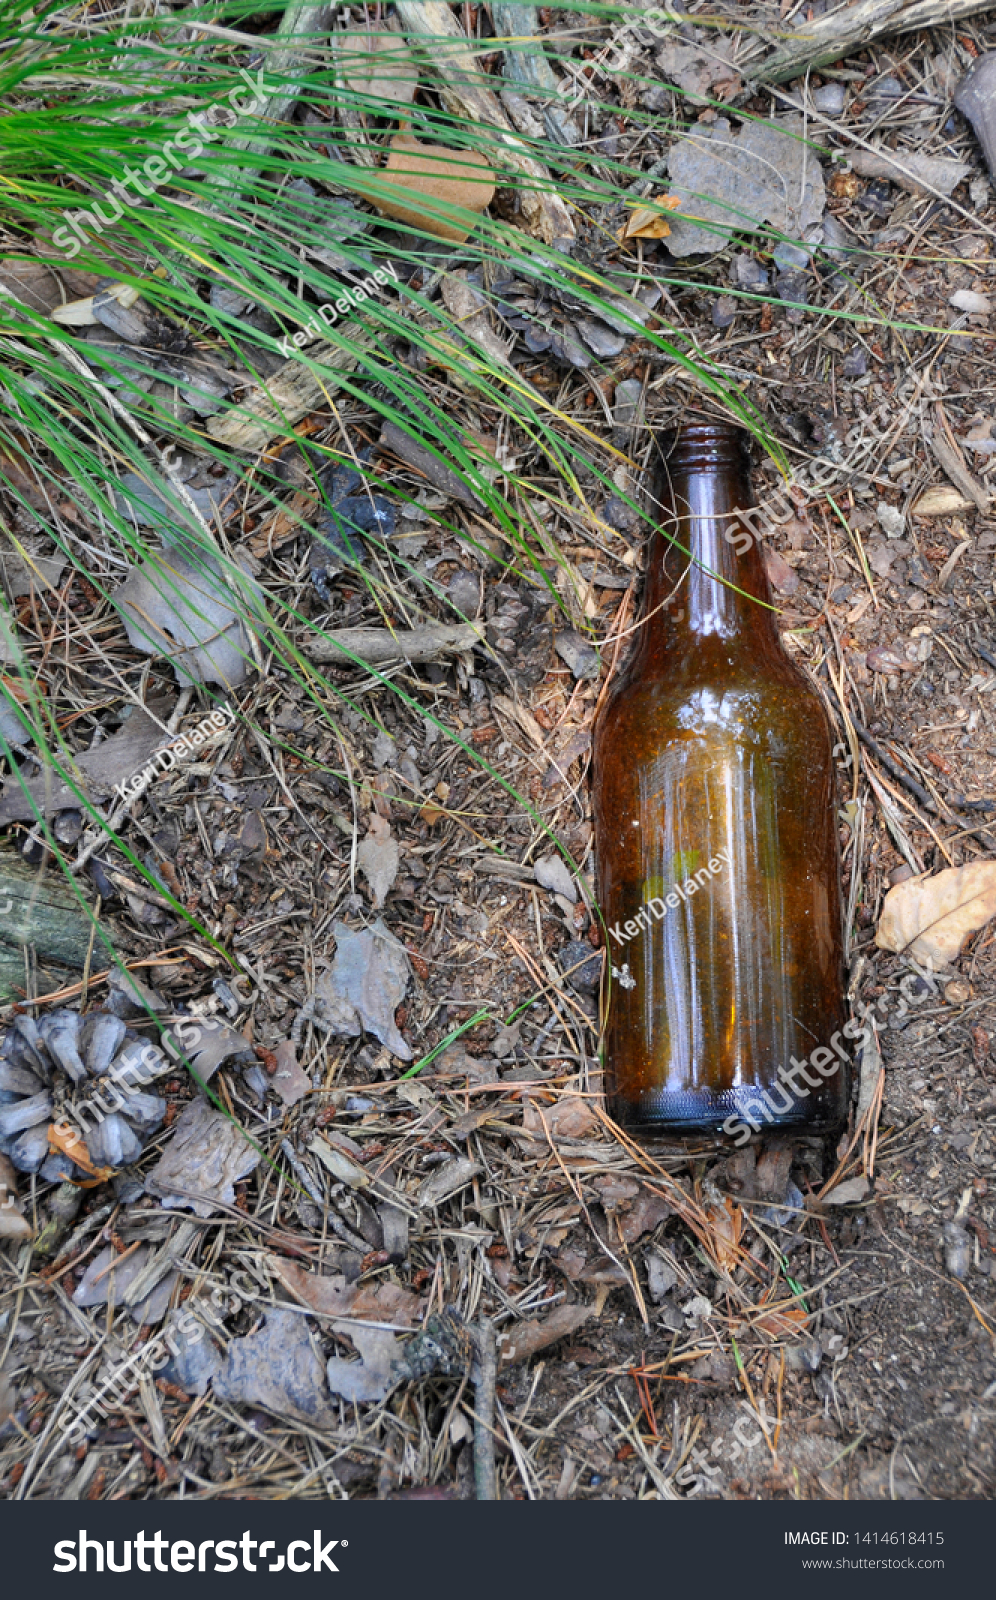glass_bottle: (561, 391, 880, 1176)
